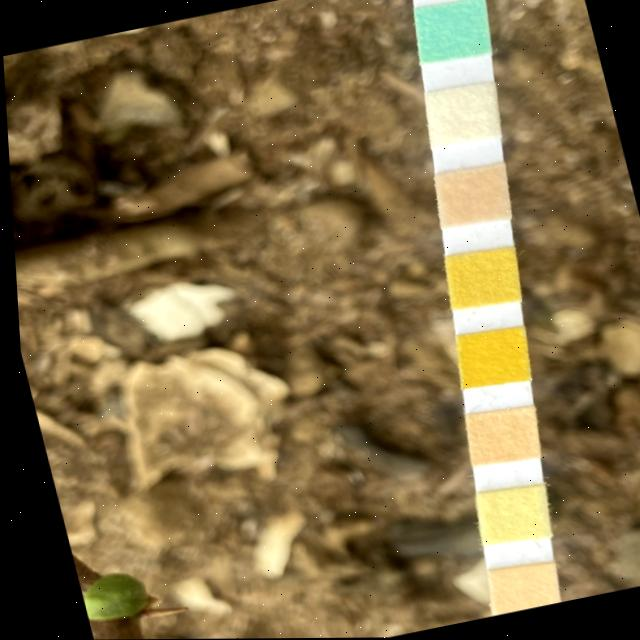Bilirubin: (428, 84, 499, 149)
Blood: (453, 328, 526, 387)
Glucose: (415, 0, 491, 62)
Ketone: (432, 166, 506, 227)
Protein: (470, 487, 543, 545)
SpGravity: (441, 246, 517, 312)
Urobilinogen: (483, 566, 552, 615)
pH: (460, 408, 534, 465)
